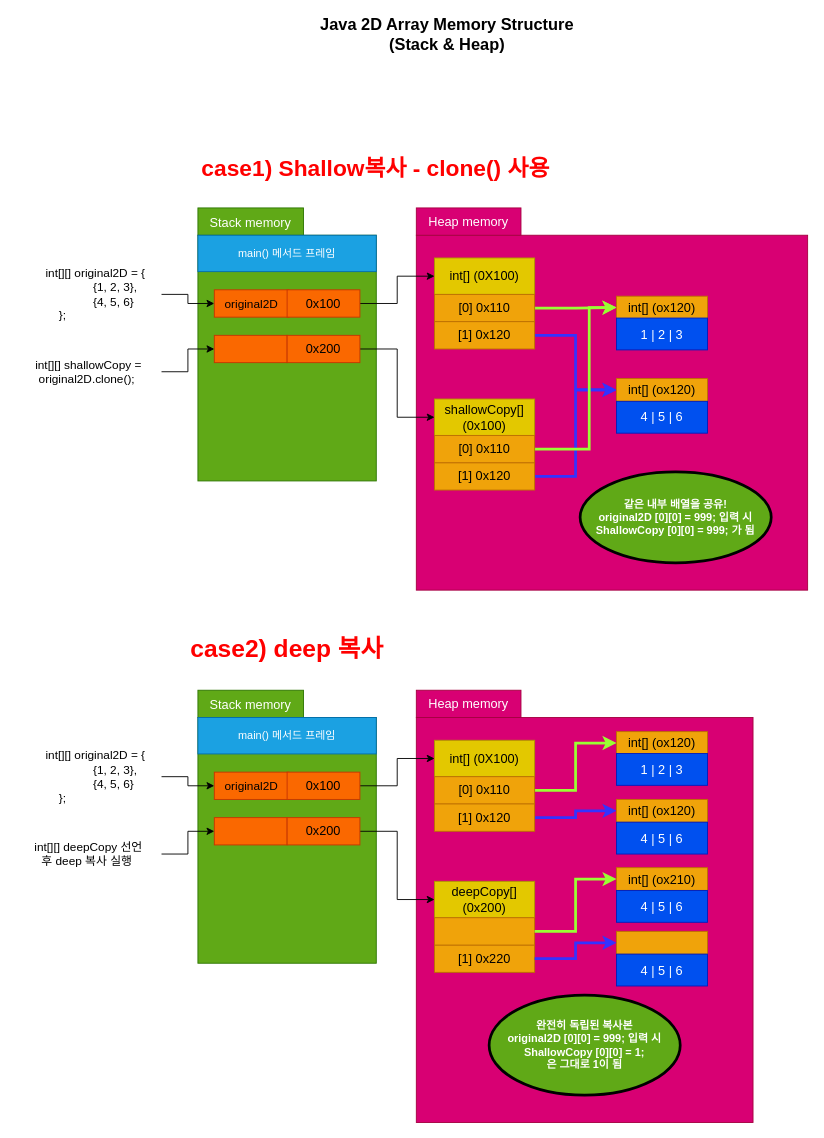
Image size: 824x1138. Some labels were removed from this diagram. Here are the shapes that lost their labels. From the top down, the box of each, then its label:
(213, 334, 287, 363): shallowCopy
(213, 817, 287, 845): deepCopy
(434, 917, 535, 945): [0] 0x210
(616, 930, 708, 954): int[] (ox220)
